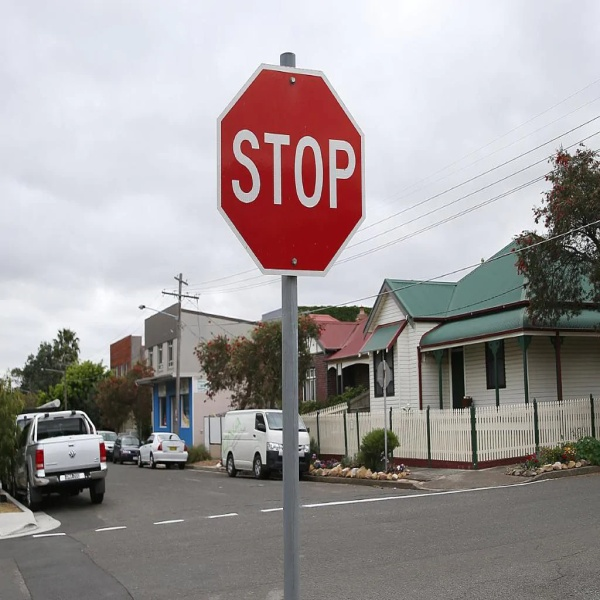stop: (221, 68, 364, 277)
